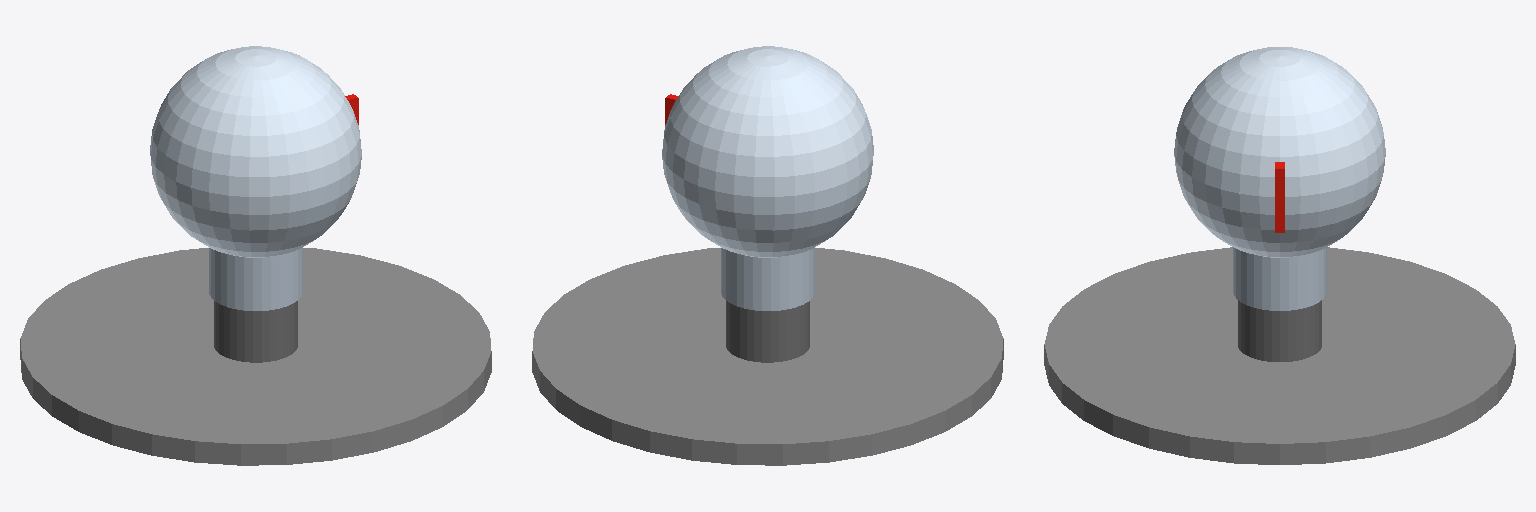
robot.urdf — lightbulb:
<?xml version="1.0"?>
<robot name="lightbulb">

  <!-- ========== BASE (fixed platform) ========== -->
  <link name="base">
    <visual>
      <origin xyz="0 0 0" />
      <geometry>
        <cylinder radius="0.10" length="0.01" />
      </geometry>
      <material name="base_material">
        <color rgba="0.6 0.6 0.6 1" />
      </material>
    </visual>
    <collision>
      <origin xyz="0 0 0" />
      <geometry>
        <cylinder radius="0.10" length="0.01" />
      </geometry>
    </collision>
    <inertial>
      <mass value="10.0" />
      <origin xyz="0 0 0" />
      <inertia ixx="0.02508" ixy="0.0" ixz="0.0" iyy="0.02508" iyz="0.0" izz="0.05" />
    </inertial>
  </link>

  <!-- ========== SHAFT (bulb socket / neck) ========== -->
  <link name="shaft">
    <visual>
      <!-- 让螺口/底座更粗一点，方便抓取 -->
      <origin xyz="0 0 0.015" />
      <geometry>
        <cylinder radius="0.018" length="0.03" />
      </geometry>
      <material name="socket_gray">
        <color rgba="0.5 0.5 0.5 1"/>
      </material>
    </visual>
    <collision>
      <origin xyz="0 0 0.015" />
      <geometry>
        <cylinder radius="0.018" length="0.03" />
      </geometry>
    </collision>
    <inertial>
      <origin xyz="0 0 0.015" />
      <mass value="0.05"/>
      <inertia ixx="0.00002" ixy="0" ixz="0"
               iyy="0.00002" iyz="0"
               izz="0.00002"/>
    </inertial>
  </link>

  <!-- Base–shaft connection (fixed) -->
  <joint name="base_to_shaft" type="fixed">
    <parent link="base" />
    <child  link="shaft" />
    <origin xyz="0 0 0" rpy="0 0 0" />
  </joint>

  <!-- ========== HANDLE (bulb glass + small neck) ========== -->
  <link name="handle">
    <!-- 玻璃泡（视觉） -->
    <visual>
      <!-- 把球体中心放高一点，让它像灯泡泡壳 -->
      <origin xyz="0 0 0.085" />
      <geometry>
        <sphere radius="0.045" />
      </geometry>
      <material name="glass">
        <color rgba="0.9 0.95 1.0 0.35"/>
      </material>
    </visual>

    <!-- 旋转可视化标记（仅视觉，不影响碰撞/动力学） -->
    <!-- 放在球体侧面，绕 z 轴旋转时会形成明显“指针”效果 -->
    <visual>
      <origin xyz="0.040 0 0.085" rpy="0 0 0" />
      <geometry>
        <box size="0.018 0.004 0.030" />
      </geometry>
      <material name="rotation_marker_red">
        <color rgba="0.95 0.15 0.10 1" />
      </material>
    </visual>

    <!-- 玻璃泡（碰撞）：建议仍用球体，稳定 -->
    <collision>
      <origin xyz="0 0 0.085" />
      <geometry>
        <sphere radius="0.045" />
      </geometry>
    </collision>

    <!-- 玻璃颈部（视觉，细一点） -->
    <visual>
      <origin xyz="0 0 0.045" />
      <geometry>
        <cylinder radius="0.020" length="0.05" />
      </geometry>
      <material name="glass_neck">
        <color rgba="0.8 0.85 0.9 0.35"/>
      </material>
    </visual>

    <!-- 颈部（碰撞，可选；如果接触太多可注释掉） -->
    <collision>
      <origin xyz="0 0 0.045" />
      <geometry>
        <cylinder radius="0.020" length="0.05" />
      </geometry>
    </collision>

    <inertial>
      <!-- 质量别太大，否则拧起来惯量太夸张 -->
      <origin xyz="0 0 0.07" />
      <mass value="0.10"/>
      <inertia ixx="0.00008" ixy="0" ixz="0"
               iyy="0.00008" iyz="0"
               izz="0.00008"/>
    </inertial>
  </link>

  <!-- Handle–shaft connection (revolute joint for training)-->
  <joint name="handle_to_shaft" type="revolute">
    <parent link="shaft"/>
    <child  link="handle"/>
    <!-- 保持你原来 0.01 的偏移也可以；这里稍微抬高一点，让旋转轴更像灯泡轴 -->
    <origin xyz="0 0 0.01" rpy="0 0 0"/>
    <axis  xyz="0 0 -1" />
    <dynamics friction="0.2"/>
    <limit lower="0.0" upper="628.3185" effort="2.0" velocity="6.2832" />
  </joint>

</robot>

--- Facts derived from the render (not from the file) ---
Views: 3 orthographic renders of the robot side by side, from view 1: azimuth 30°, elevation 25°; view 2: azimuth 150°, elevation 25°; view 3: azimuth 270°, elevation 25°.
Robot: lightbulb — 3 links, 2 joints (1 revolute, 1 fixed); root link base; default pose: all joints at 0.
Links seen in each view (by area): view 1: base, handle, shaft; view 2: base, handle, shaft; view 3: base, handle, shaft.
Link boxes in pixels (x1,y1,x2,y2): base: (20,248,491,465); handle: (150,46,361,310); shaft: (214,301,297,362); base: (532,248,1003,465); handle: (662,46,873,310); shaft: (726,301,809,362); base: (1044,247,1515,464); handle: (1174,47,1385,310); shaft: (1238,300,1321,361).
Bounding box of the posed robot: 0.2 × 0.2 × 0.145 m (x, y, z).
Geometry: primitives only (box / cylinder / sphere), no mesh files.
